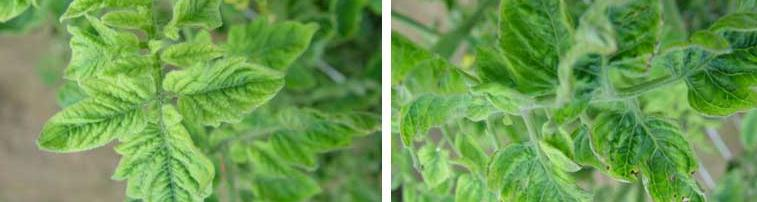Tomato mold leaf: (112, 106, 229, 202), (157, 56, 302, 133), (30, 78, 155, 166), (470, 129, 611, 202), (496, 0, 582, 100)
